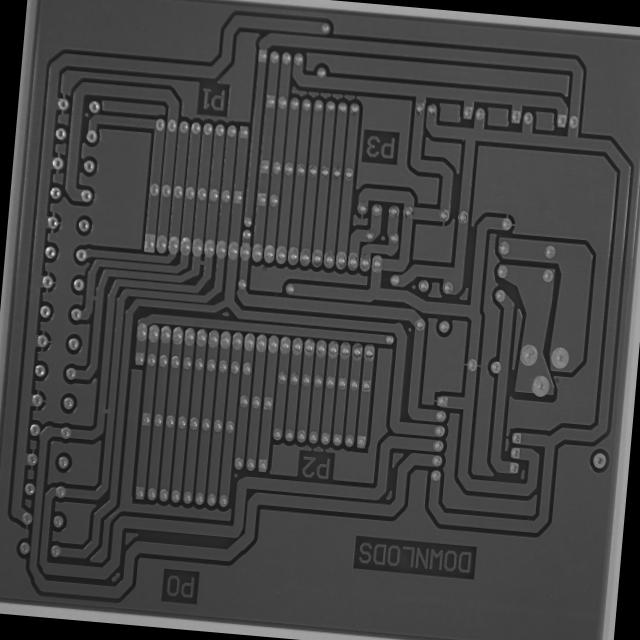short: (94, 394, 118, 426), (84, 285, 104, 311), (192, 249, 212, 273)
